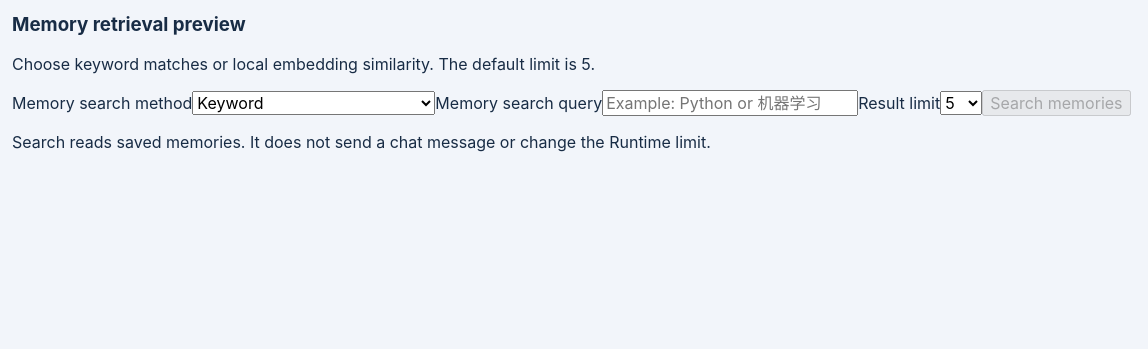
shows the configured local model for Ollama results
Select "Semantic (local embeddings)" in the dropdown labelled "Memory search method". click: (314, 103)
box: top-left (192, 91), bottom-right (435, 115)
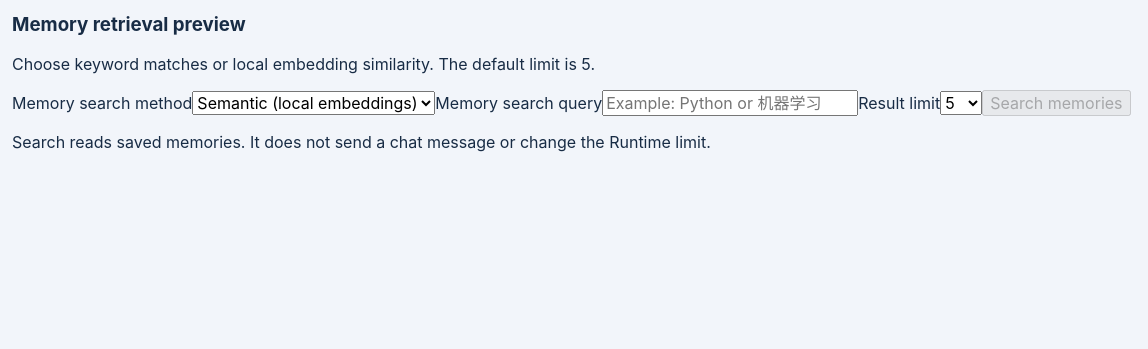
Type "  Keep it brief.  " into the field labelled "Memory search query". click: (730, 103)
box: top-left (602, 90), bottom-right (858, 116)
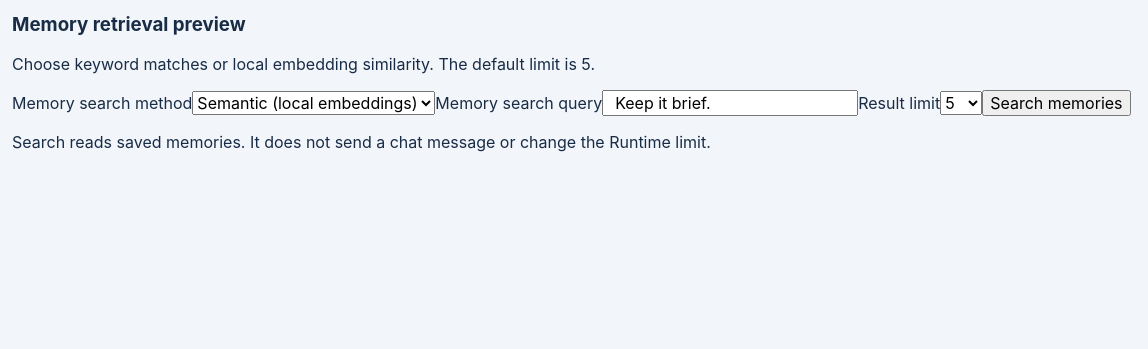
Click the button "Search memories". click: (1056, 103)
box: top-left (982, 90), bottom-right (1131, 116)
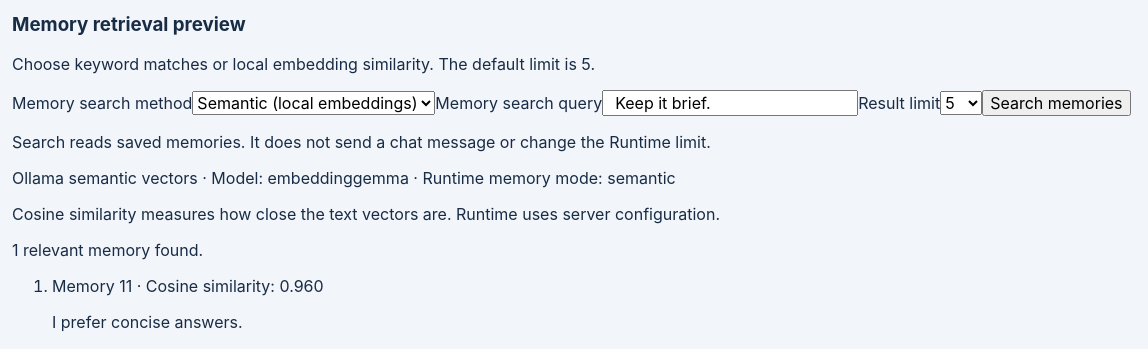
Now the text "Ollama semantic vectors" shows "Model: embeddinggemma · Runtime memory mode: semantic", box top-left (12, 168), bottom-right (676, 188)
